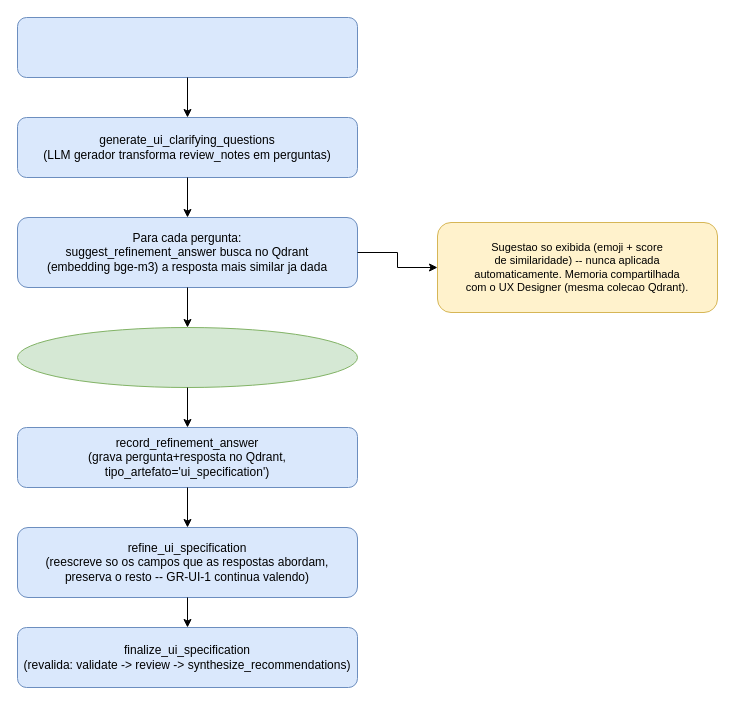
Some shapes in this 735 by 705 pixel diagram are drawn without their labels. The box of each missing label's shape, as (x1, y1, x2, y2) in pixels:
Humano digita a resposta final (input() no terminal, run.py): (16, 326, 358, 388)
review_notes preenchido (checklist ou revisor reprovou): (16, 16, 358, 78)
